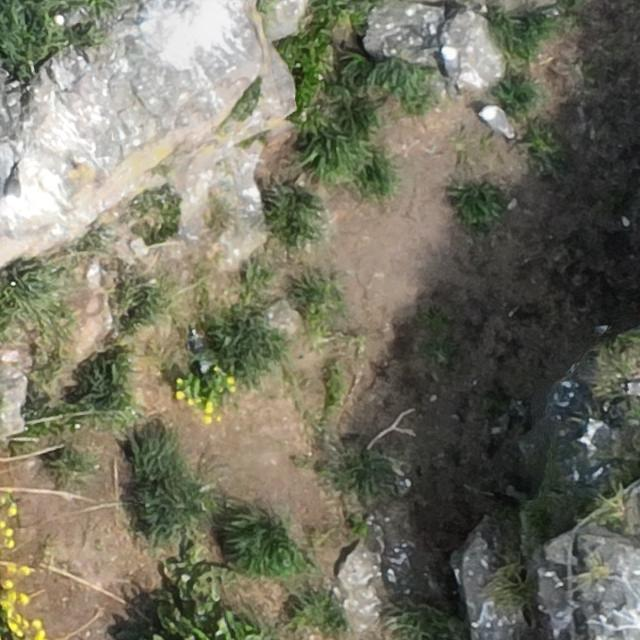umineko: (481, 108, 510, 135), (442, 47, 459, 83), (6, 174, 22, 203), (56, 10, 83, 26), (626, 378, 640, 393)
